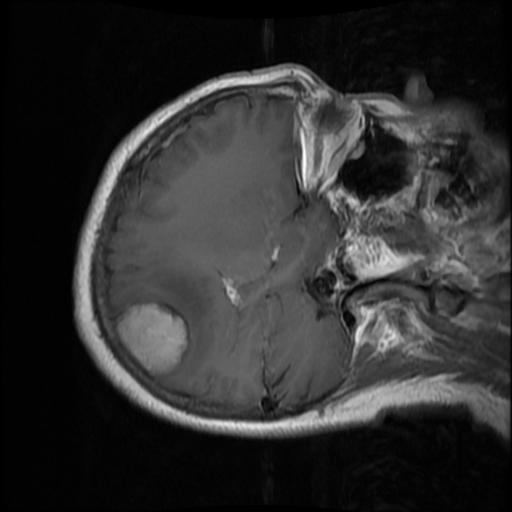meningioma: (117, 303, 187, 376)
